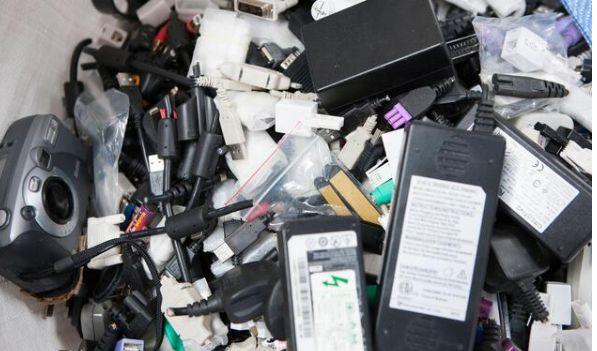electronic: (276, 120, 508, 350), (0, 115, 92, 293), (190, 66, 293, 152), (357, 78, 451, 136), (318, 164, 384, 227), (251, 40, 306, 91), (210, 0, 301, 22), (494, 73, 568, 99), (162, 242, 200, 282), (443, 29, 480, 64), (123, 202, 158, 233), (147, 154, 167, 196)
